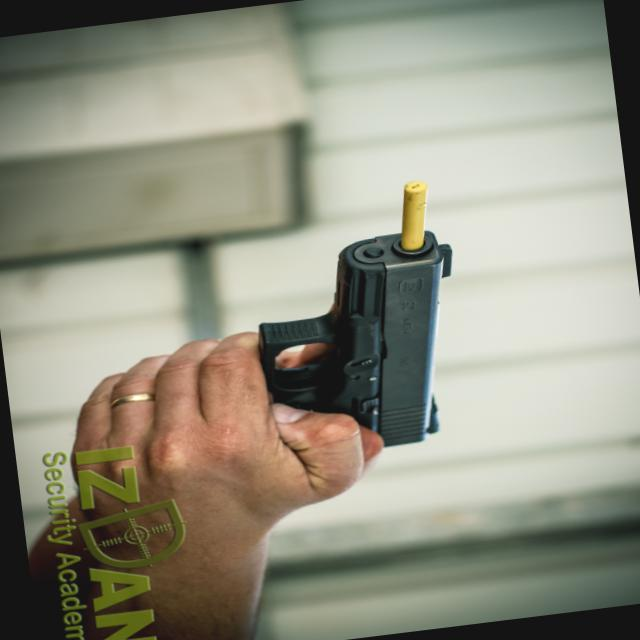handgun: (244, 225, 472, 460)
